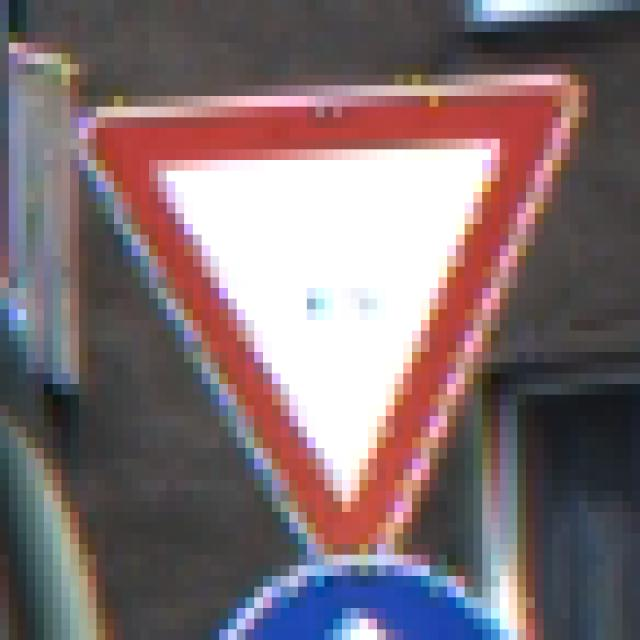Give Way: (63, 54, 589, 588)
